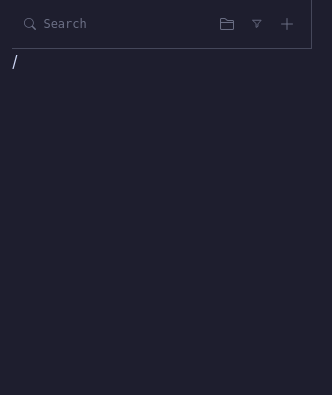
returns acknowledged sessions to ordinary history filters
This screenshot has width=332, height=395.
Expected: the text "Old Factory verification" is not shown
Click the button named "Filter sessions". click: (257, 24)
box: [245, 12, 269, 36]
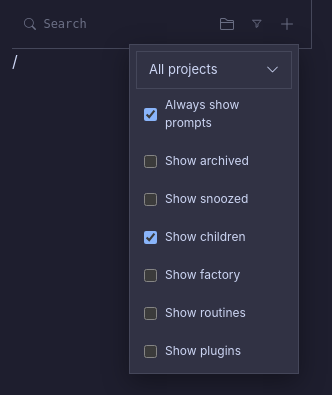
Click the checkbox labelled "Show factory". click: (150, 275)
box: [144, 268, 157, 282]
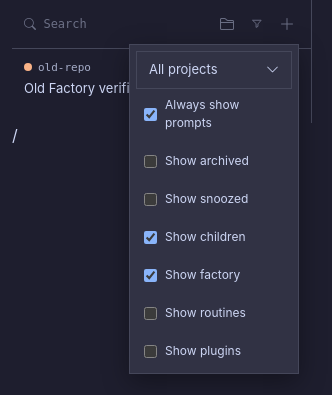
Result: the text "Old Factory verification" is shown at [24, 80, 167, 96]
